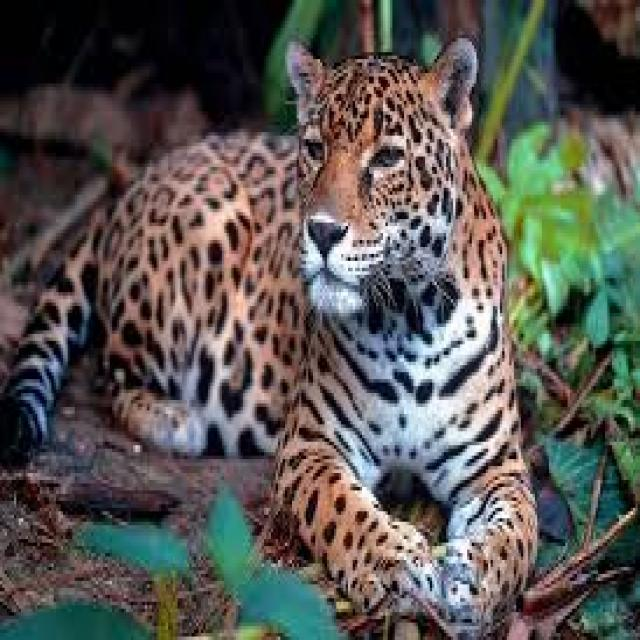Jaguar: (0, 35, 542, 640)
